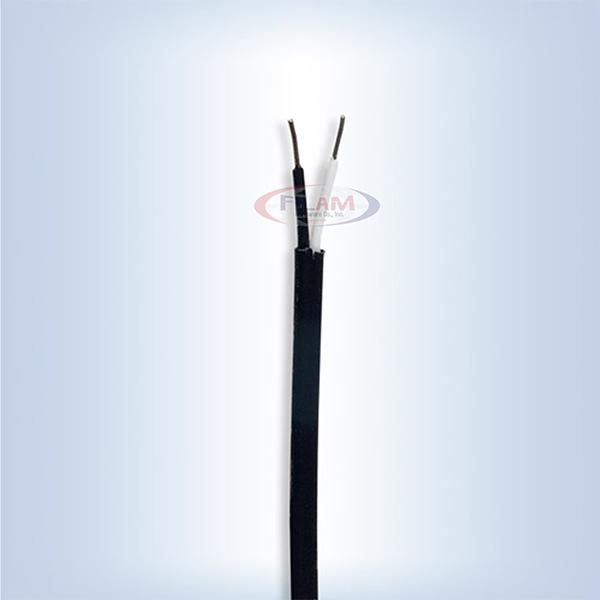Nonrec_Tangler: (123, 74, 386, 587)
